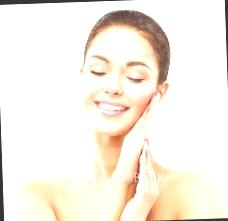closed: (82, 50, 154, 90)
